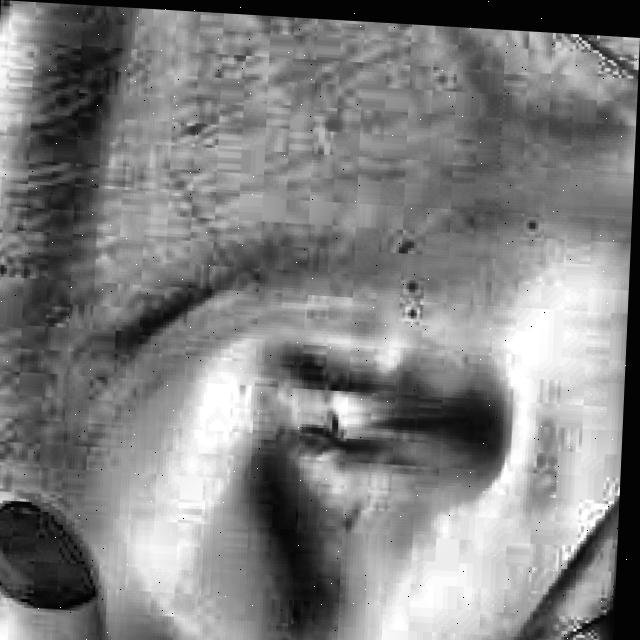bumper_dent: (104, 307, 513, 640)
